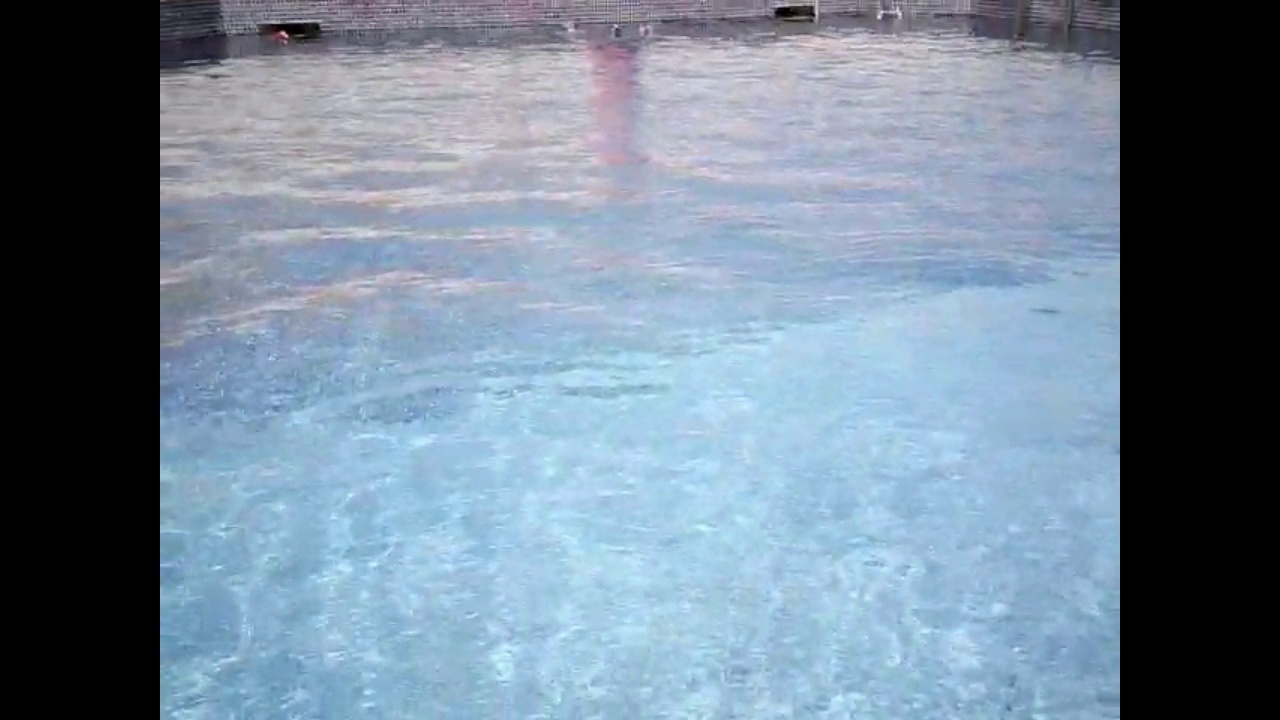debris: (262, 28, 290, 51), (634, 19, 658, 42), (602, 21, 626, 43), (874, 7, 903, 23)
